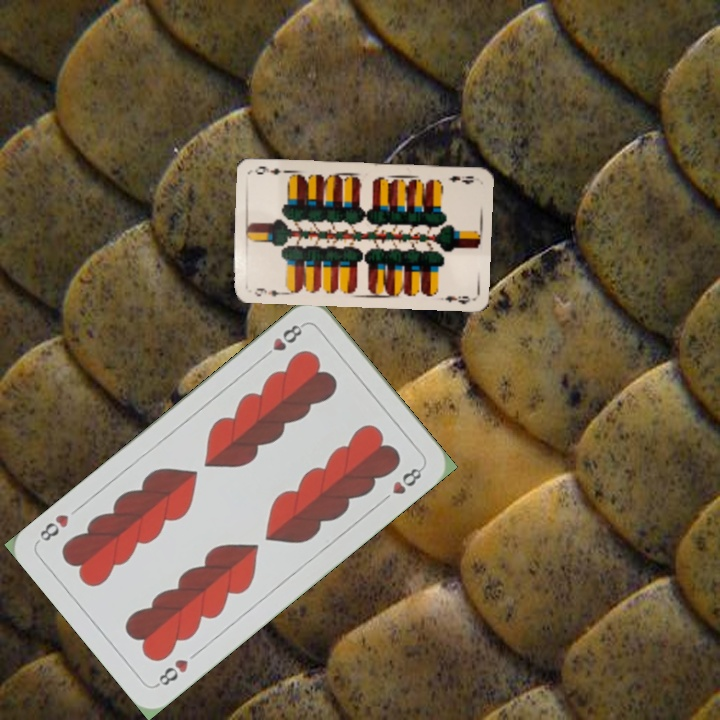E9: (251, 284, 286, 299), (445, 172, 476, 187)
H8: (258, 319, 308, 362), (151, 655, 191, 690)
